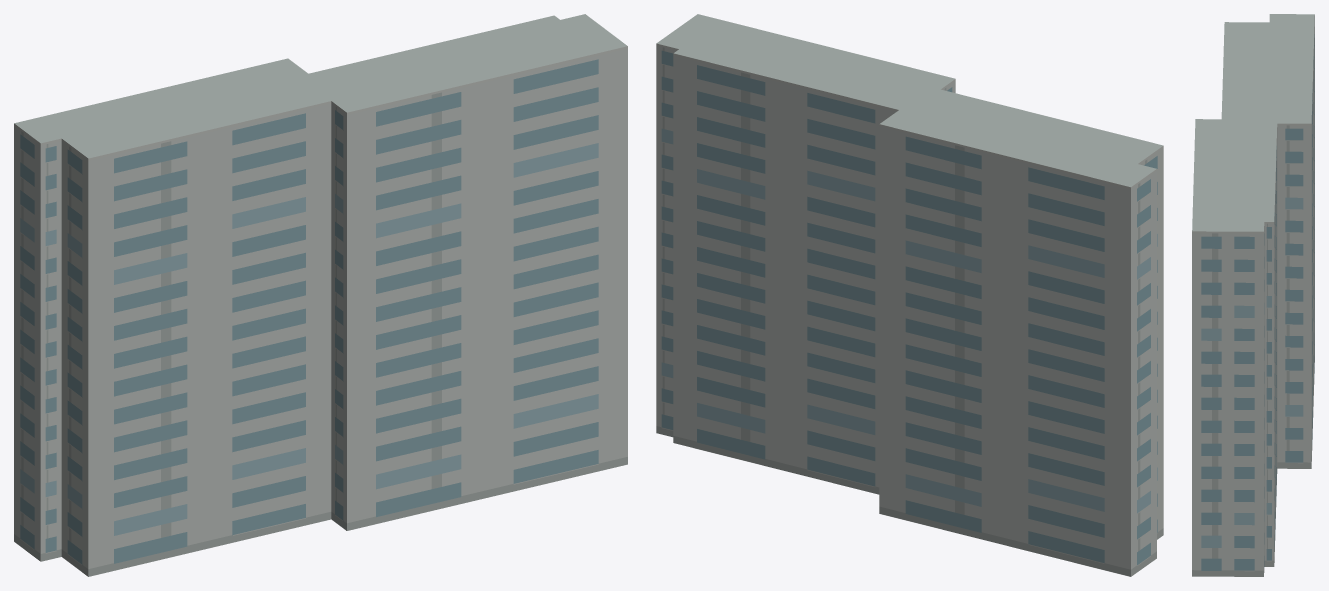
File: residential-ee18694d-b9bc-416d-8691-7e791724f356.glb
3 renders of one model, left to right at view 1: azimuth 30°, elevation 25°; view 2: azimuth 150°, elevation 25°; view 3: azimuth 270°, elevation 25°, orthographic. The views are drawn at different scales.
Visible parts, largest first — view 1: residential-ee18694d-b9bc-416d-8691-7e791724f356.tmp; view 2: residential-ee18694d-b9bc-416d-8691-7e791724f356.tmp; view 3: residential-ee18694d-b9bc-416d-8691-7e791724f356.tmp.
Boxes of the visible parts, bbox=[...] form: residential-ee18694d-b9bc-416d-8691-7e791724f356.tmp: bbox=[14, 14, 627, 576]; residential-ee18694d-b9bc-416d-8691-7e791724f356.tmp: bbox=[656, 14, 1163, 576]; residential-ee18694d-b9bc-416d-8691-7e791724f356.tmp: bbox=[1192, 14, 1314, 576].
Size of the model in its own units: 62.26 by 46 by 14.84.
